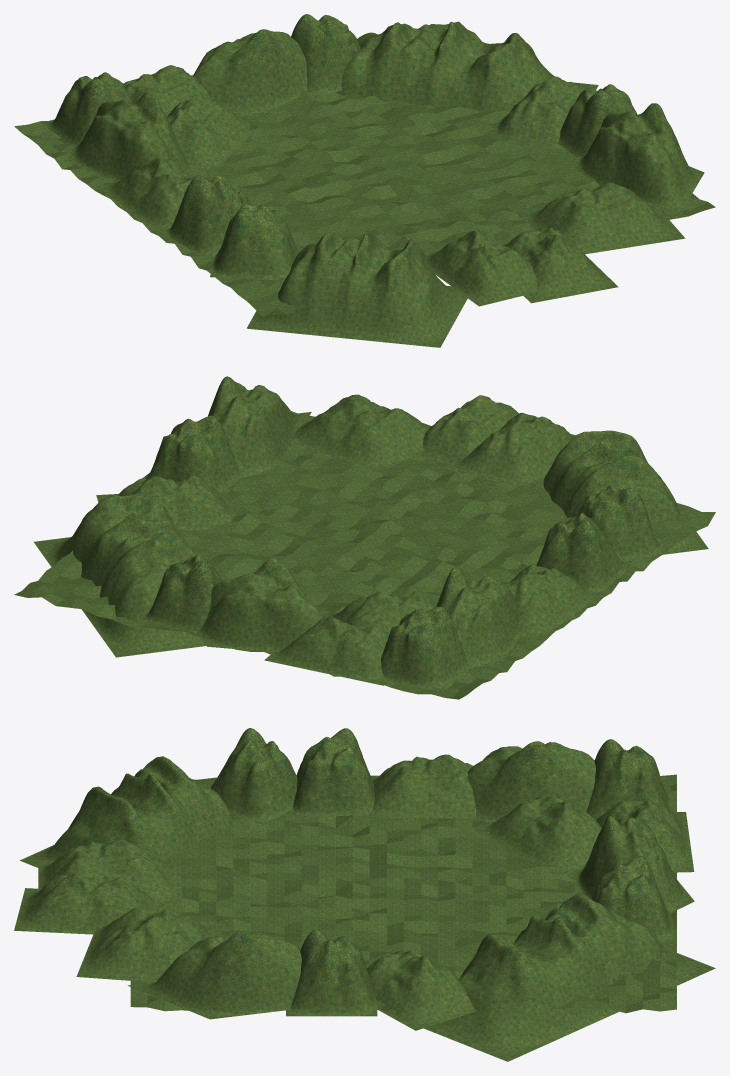
Rendered from Terreno.glb.
3 views of the same model, one above another, from view 1: azimuth 30°, elevation 25°; view 2: azimuth 150°, elevation 25°; view 3: azimuth 270°, elevation 25° (orthographic). The views are drawn at different scales.
Parts seen in each view (by area): view 1: Plane, Retopo_Landscape.018, Retopo_Landscape.017, Retopo_Landscape.015, Retopo_Landscape.005, Retopo_Landscape.008, Retopo_Landscape.001, Retopo_Landscape.016, Retopo_Landscape.007, Retopo_Landscape.011, Retopo_Landscape.010, Retopo_Landscape.009 (+6 smaller); view 2: Plane, Retopo_Landscape.017, Retopo_Landscape.018, Retopo_Landscape.005, Retopo_Landscape.008, Retopo_Landscape.015, Retopo_Landscape.001, Retopo_Landscape.002, Retopo_Landscape.016, Retopo_Landscape.006, Retopo_Landscape.014, Retopo_Landscape.009 (+6 smaller); view 3: Plane, Retopo_Landscape.017, Retopo_Landscape.018, Retopo_Landscape.015, Retopo_Landscape.001, Retopo_Landscape.008, Retopo_Landscape.010, Retopo_Landscape.011, Retopo_Landscape.004, Retopo_Landscape.014, Retopo_Landscape.012, Retopo_Landscape.009 (+6 smaller).
Boxes of the visible parts, x1=… form: Plane: x1=14, y1=21, x2=715, y2=316; Retopo_Landscape.018: x1=246, y1=230, x2=467, y2=347; Retopo_Landscape.017: x1=336, y1=22, x2=598, y2=111; Retopo_Landscape.015: x1=571, y1=103, x2=704, y2=216; Retopo_Landscape.005: x1=193, y1=29, x2=307, y2=117; Retopo_Landscape.008: x1=519, y1=182, x2=685, y2=254; Retopo_Landscape.001: x1=66, y1=91, x2=193, y2=181; Retopo_Landscape.016: x1=424, y1=229, x2=540, y2=306; Retopo_Landscape.007: x1=210, y1=205, x2=304, y2=280; Retopo_Landscape.011: x1=504, y1=227, x2=618, y2=303; Retopo_Landscape.010: x1=167, y1=95, x2=264, y2=172; Retopo_Landscape.009: x1=165, y1=175, x2=250, y2=259; Plane: x1=14, y1=411, x2=715, y2=699; Retopo_Landscape.017: x1=34, y1=493, x2=205, y2=657; Retopo_Landscape.018: x1=543, y1=430, x2=708, y2=554; Retopo_Landscape.005: x1=196, y1=558, x2=322, y2=652; Retopo_Landscape.008: x1=292, y1=394, x2=431, y2=472; Retopo_Landscape.015: x1=208, y1=376, x2=311, y2=476; Retopo_Landscape.001: x1=436, y1=567, x2=520, y2=667; Retopo_Landscape.002: x1=381, y1=606, x2=470, y2=692; Retopo_Landscape.016: x1=445, y1=412, x2=575, y2=488; Retopo_Landscape.006: x1=264, y1=615, x2=389, y2=685; Retopo_Landscape.014: x1=142, y1=415, x2=242, y2=492; Retopo_Landscape.009: x1=536, y1=513, x2=635, y2=592; Plane: x1=130, y1=774, x2=676, y2=1013; Retopo_Landscape.017: x1=424, y1=893, x2=715, y2=1061; Retopo_Landscape.018: x1=20, y1=756, x2=234, y2=867; Retopo_Landscape.015: x1=128, y1=931, x2=301, y2=1019; Retopo_Landscape.001: x1=467, y1=741, x2=595, y2=822; Retopo_Landscape.008: x1=76, y1=907, x2=224, y2=982; Retopo_Landscape.010: x1=471, y1=795, x2=601, y2=876; Retopo_Landscape.011: x1=14, y1=873, x2=161, y2=934; Retopo_Landscape.004: x1=363, y1=754, x2=477, y2=818; Retopo_Landscape.014: x1=286, y1=929, x2=377, y2=1016; Retopo_Landscape.012: x1=366, y1=949, x2=477, y2=1030; Retopo_Landscape.009: x1=290, y1=728, x2=374, y2=817.
Bounding box in the file's own units: 462 × 76.71 × 514.
Materials: 18 (18 with a texture image).
